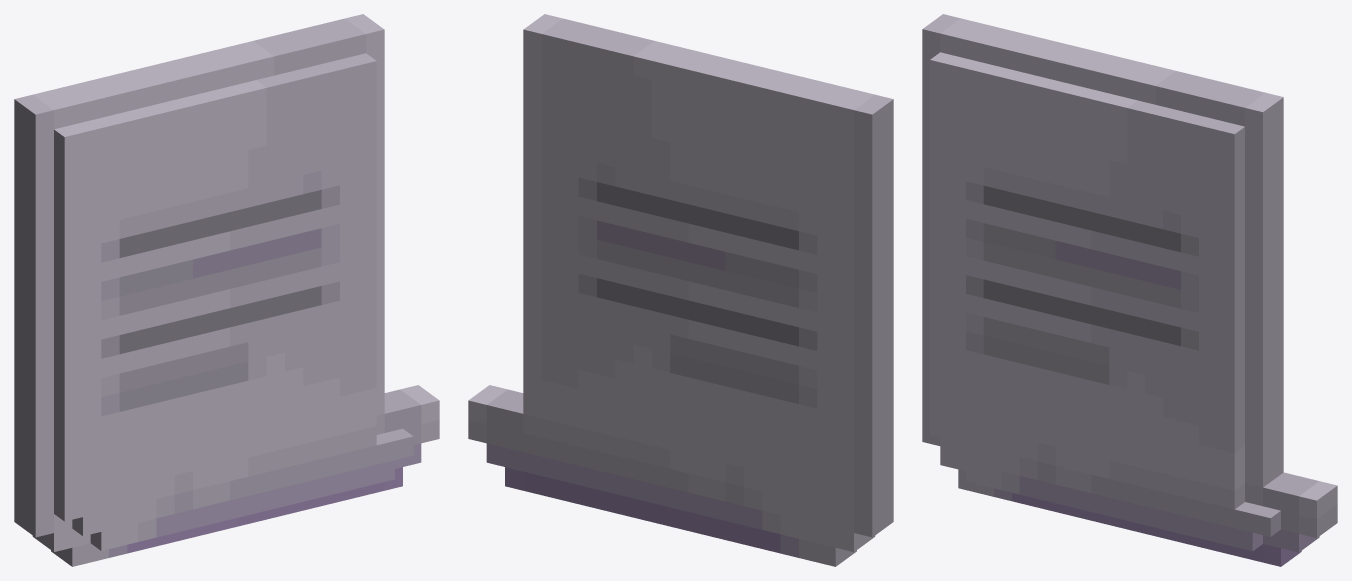
Rendered from page-curl.glb.
3 renders of one model, left to right at view 1: azimuth 30°, elevation 25°; view 2: azimuth 150°, elevation 25°; view 3: azimuth 330°, elevation 25°, orthographic. The views are drawn at different scales.
Visible parts, largest first — view 1: prop; view 2: prop; view 3: prop.
Boxes of the visible parts, x1,y1,x2,y2 form: prop: (14,14,439,566); prop: (468,14,893,566); prop: (922,14,1337,566).
Size of the model in its own units: 14.67 by 16 by 2.
